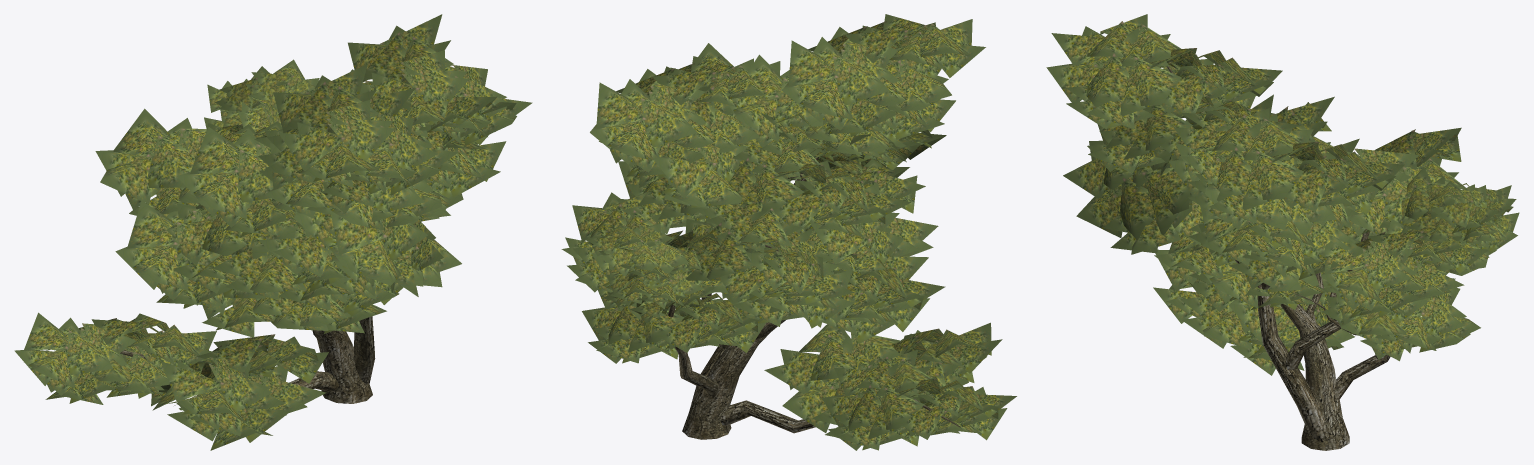
File: oak-summer-d.DAE
3 views of the same model, side by side, from view 1: azimuth 30°, elevation 25°; view 2: azimuth 150°, elevation 25°; view 3: azimuth 270°, elevation 25° (orthographic). The views are drawn at different scales.
Visible parts, largest first — view 1: oak_d; view 2: oak_d; view 3: oak_d.
Boxes of the visible parts, <box> form: oak_d: <box>14,14,532,450</box>; oak_d: <box>561,14,1016,450</box>; oak_d: <box>1046,14,1519,450</box>.
Size of what is drawn, in the model's own units: 1370 by 1298 by 1095.
